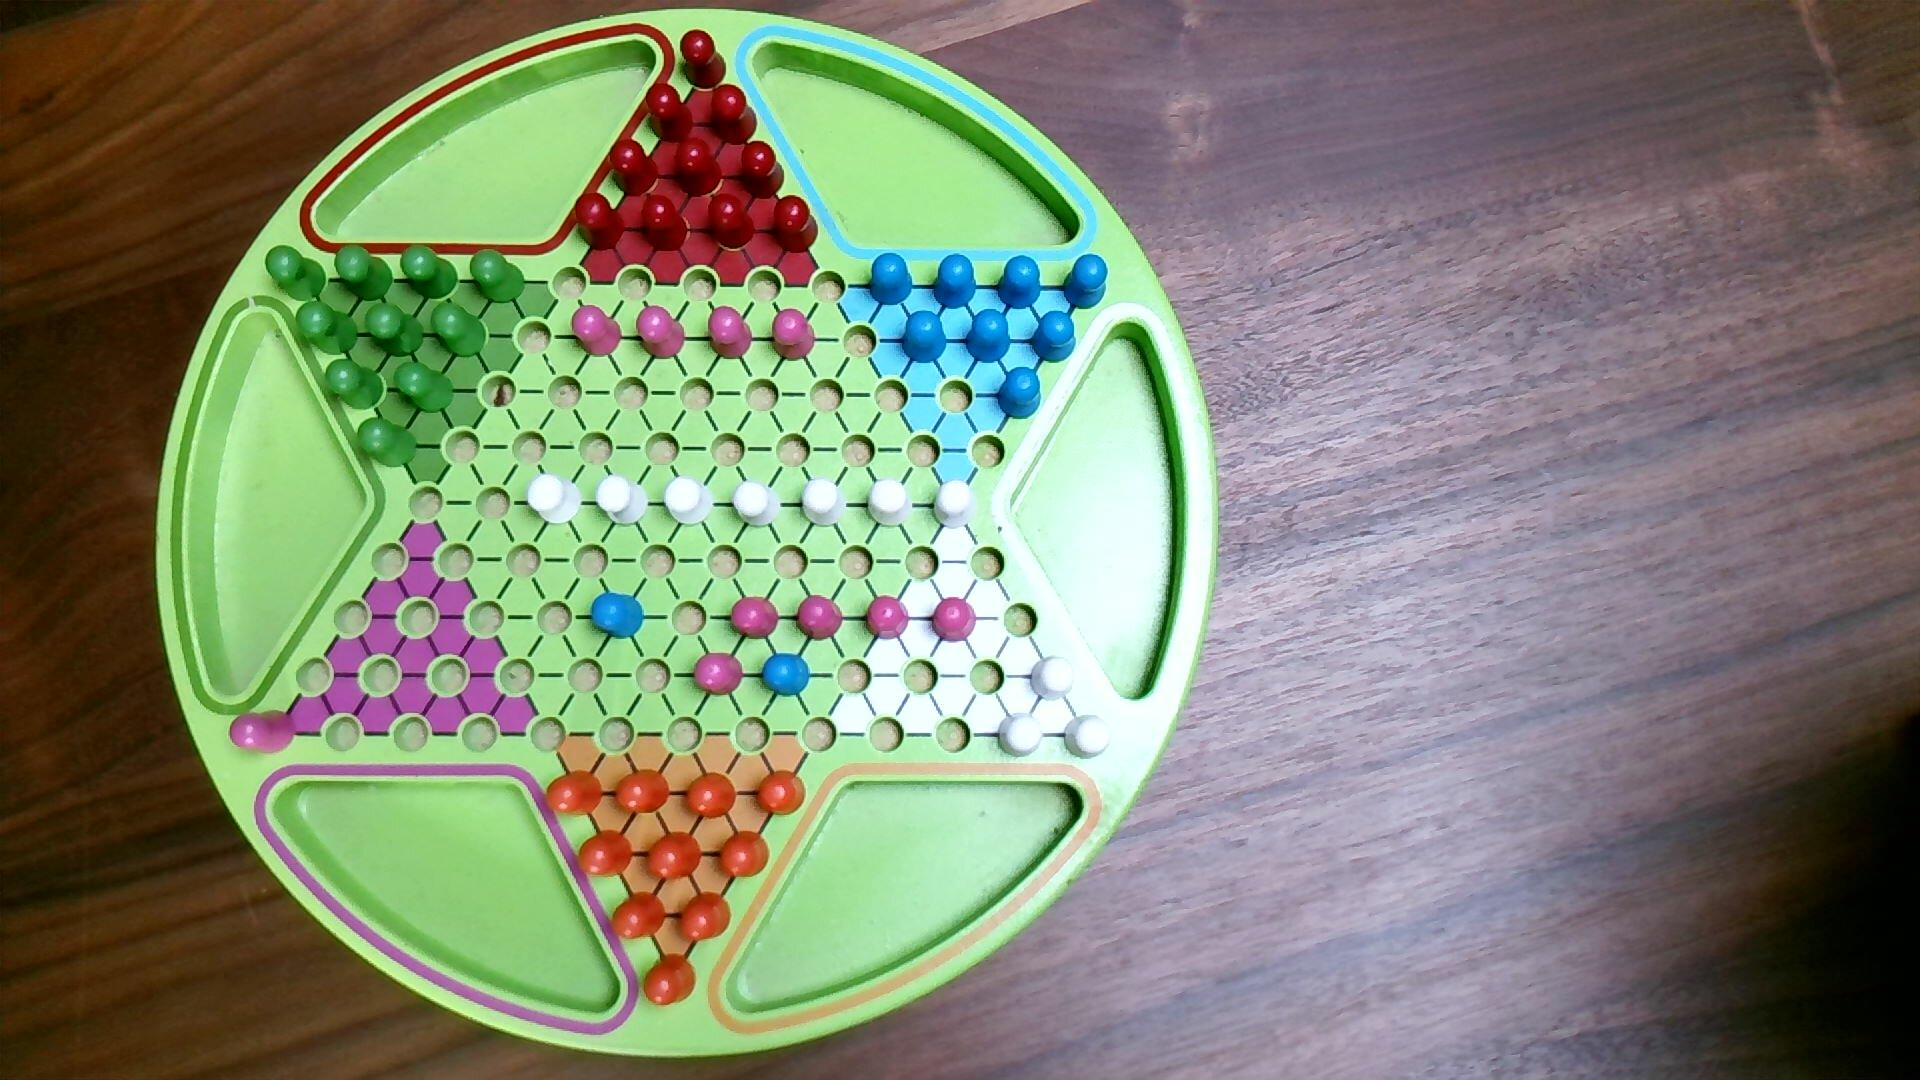B: (589, 589, 647, 642), (994, 253, 1044, 311), (964, 307, 1013, 367), (931, 251, 978, 311), (899, 309, 949, 365), (994, 365, 1044, 422), (1062, 253, 1110, 311), (868, 252, 916, 309), (1029, 309, 1077, 365), (760, 651, 814, 698)
G: (264, 244, 328, 303), (295, 301, 361, 357), (334, 244, 394, 305), (363, 301, 426, 359), (430, 301, 489, 360), (400, 243, 460, 301), (356, 415, 419, 469), (393, 361, 456, 415), (323, 357, 386, 411), (468, 248, 527, 305)
O: (642, 829, 705, 884), (674, 891, 735, 945), (642, 952, 699, 1009), (575, 828, 636, 881), (543, 767, 605, 818), (609, 890, 667, 943), (683, 770, 738, 822), (615, 767, 673, 816), (716, 829, 771, 880), (754, 769, 808, 818)
R: (705, 80, 761, 149), (673, 135, 725, 200), (642, 80, 695, 146), (574, 189, 626, 253), (678, 26, 729, 91), (607, 137, 659, 199), (705, 190, 758, 251), (738, 138, 787, 203), (771, 194, 822, 256), (640, 193, 688, 255)
R2: (228, 709, 297, 756), (571, 303, 625, 361), (634, 303, 687, 363), (705, 305, 756, 363), (770, 307, 818, 363), (794, 593, 845, 644), (931, 593, 978, 645), (692, 651, 745, 698), (731, 595, 781, 642), (864, 593, 910, 644)
W: (595, 473, 650, 527), (527, 473, 583, 527), (662, 476, 715, 527), (731, 480, 782, 530), (866, 477, 914, 529), (800, 477, 848, 529), (1064, 713, 1113, 762), (996, 712, 1046, 760), (1029, 655, 1076, 703), (932, 480, 976, 531)
